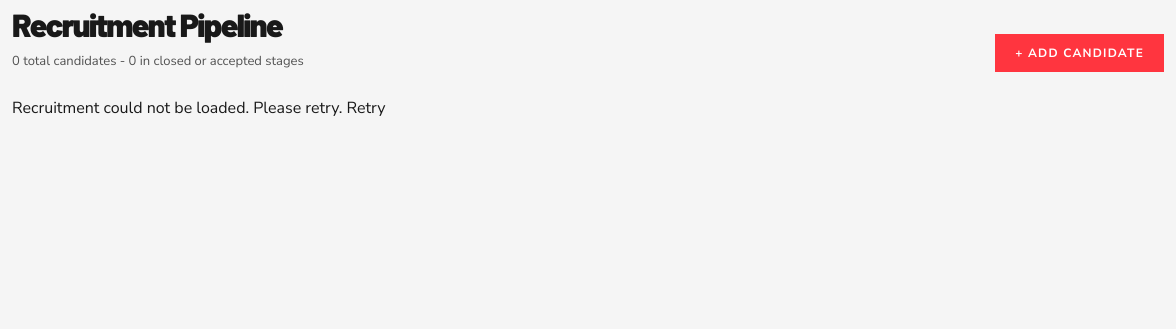
Test: recruitment load failures show a retryable error
Expected: the message "Recruitment could not be loaded. Please retry. Retry" is shown, [12,96,386,120]
Click the button "Retry" at [366, 108], box [346,96,386,120]
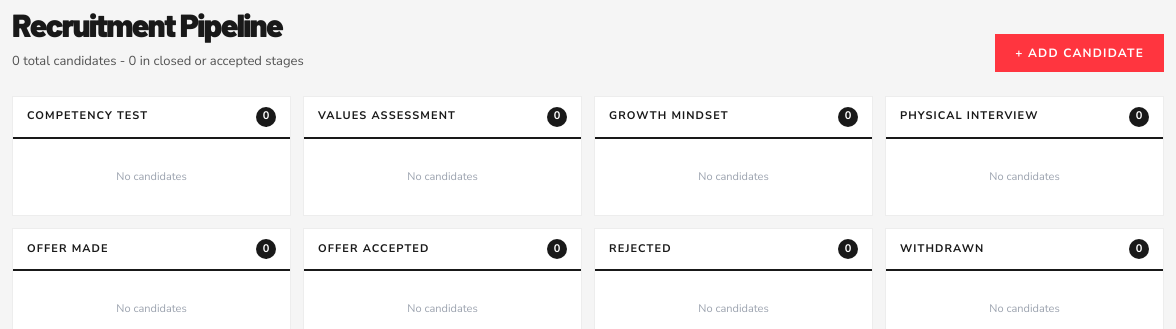
Result: the message "Recruitment could not be loaded. Please retry. Retry" is gone
